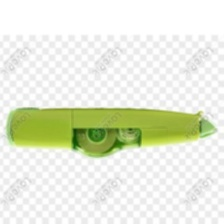correction_fluid: (5, 105, 220, 159)
